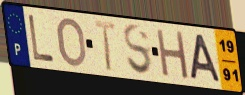A: (189, 32, 223, 84)
H: (155, 27, 191, 82)
L: (26, 13, 57, 64)
O: (56, 16, 88, 69)
S: (122, 23, 155, 78)
T: (93, 18, 117, 74)
